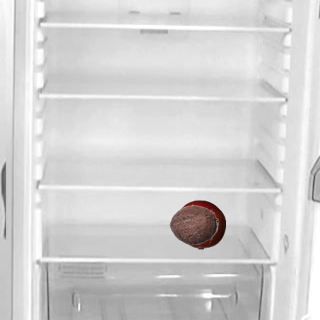Apple Braeburn: (175, 199, 225, 249)
Cocos: (168, 199, 218, 249)
